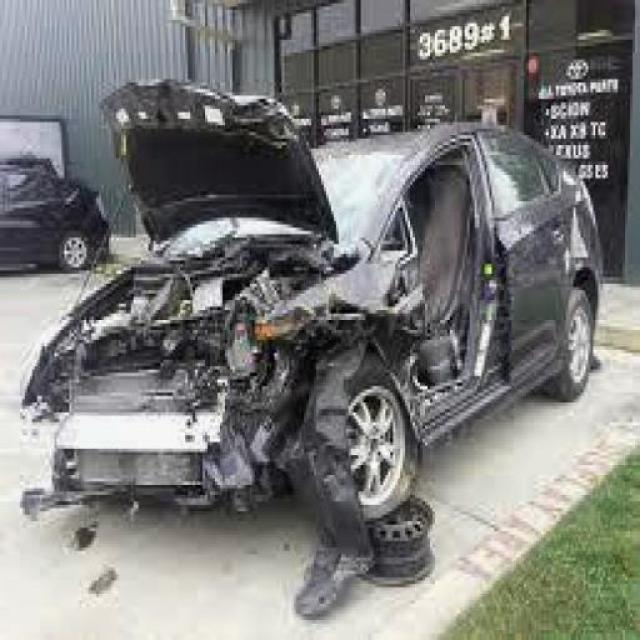Car-Damage: (19, 245, 479, 611)
